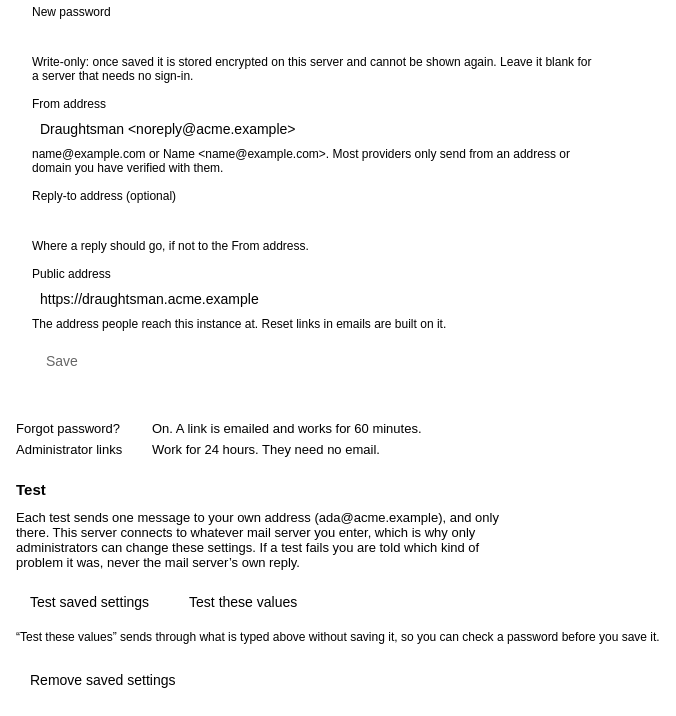
EmailPage › testing › shows the throttle sentence when the server refuses another test
(page scrolled)
Click the button "Test saved settings" at (90, 602), box [16,586,163,618]
(page scrolled)
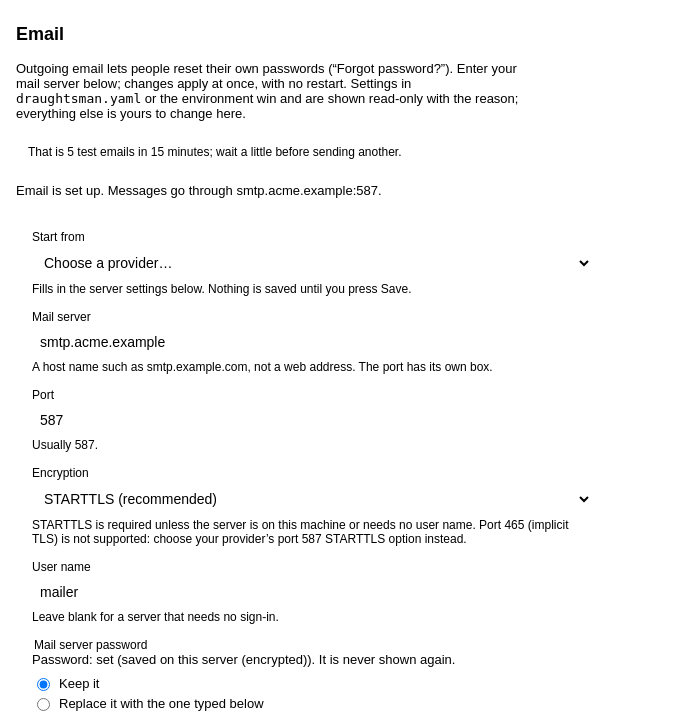
Check: the message with test id "email-error" shows "wait a little", box [28,145,402,159]
